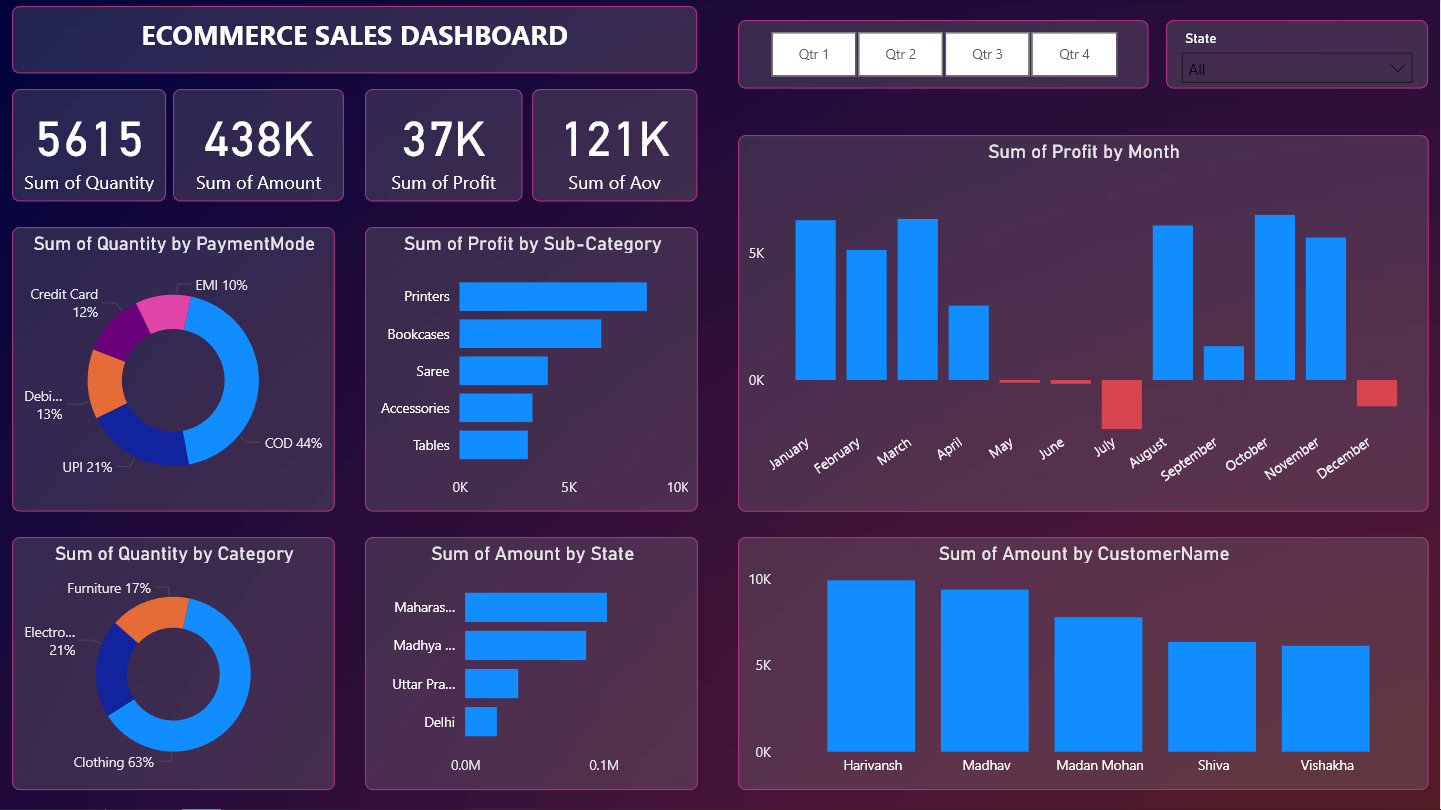

The dashboard page shown, as its layout file describes it:
{"tool":"powerbi","page":{"name":"Page 1","canvas":[1280,720],"ordinal":0},"visuals":[{"type":"columnChart","fields":{"Category":["Orders.Order Date.Variation.Date Hierarchy.Month"],"Y":["Sum(Details.Profit)"]},"box":[655.7,120.9,613.6,335],"z":0},{"type":"barChart","fields":{"Y":["Sum(Details.Profit)"],"Category":["Details.Sub-Category"]},"box":[324.3,202.4,296.5,253.5],"z":1000},{"type":"donutChart","fields":{"Category":["Details.Category"],"Y":["Sum(Details.Quantity)"]},"box":[10.7,478.3,286.6,224.8],"z":2000},{"type":"donutChart","fields":{"Y":["Sum(Details.Quantity)"],"Category":["Details.PaymentMode"]},"box":[10.7,202.4,286.6,253.5],"z":3000},{"type":"card","fields":{"Values":["Sum(Details.Amount)"]},"box":[154.1,79.7,152.3,100.3],"z":4000},{"type":"card","fields":{"Values":["Sum(Details.Quantity)"]},"box":[10.7,79.7,137,100.3],"z":5000},{"type":"card","fields":{"Values":["Sum(Details.Profit)"]},"box":[324.3,79.7,139.7,100.3],"z":6000},{"type":"card","fields":{"Values":["Sum(Details.Aov)"]},"box":[472.9,79.7,146.9,100.3],"z":7000},{"type":"barChart","fields":{"Y":["Sum(Details.Amount)"],"Category":["Orders.State"]},"box":[324.3,478.3,296.5,224.8],"z":8000},{"type":"clusteredColumnChart","fields":{"Category":["Orders.CustomerName"],"Y":["Sum(Details.Amount)"]},"box":[655.7,478.3,613.6,224.8],"z":9000},{"type":"slicer","fields":{"Values":["Orders.Order Date.Variation.Date Hierarchy.Quarter"]},"box":[655.7,18.8,364.6,60.9],"z":10000},{"type":"slicer","fields":{"Values":["Orders.State"]},"box":[1036.4,18.8,232.9,60.9],"z":11000},{"type":"textbox","box":[10.7,6.3,609.1,60],"z":12000}]}

Visuals, with their boxes in screenshot pixels (x1, y1, x2, y2), scaled from the page's 1280x720 canvas onto the 1441x810 screenshot:
columnChart - Orders.Order Date.Variation.Date Hierarchy.Month x Sum(Details.Profit): [left=738, top=136, right=1429, bottom=513]
barChart - Sum(Details.Profit) x Details.Sub-Category: [left=365, top=228, right=699, bottom=513]
donutChart - Details.Category x Sum(Details.Quantity): [left=12, top=538, right=335, bottom=791]
donutChart - Sum(Details.Quantity) x Details.PaymentMode: [left=12, top=228, right=335, bottom=513]
card - Sum(Details.Amount): [left=173, top=90, right=345, bottom=202]
card - Sum(Details.Quantity): [left=12, top=90, right=166, bottom=202]
card - Sum(Details.Profit): [left=365, top=90, right=522, bottom=202]
card - Sum(Details.Aov): [left=532, top=90, right=698, bottom=202]
barChart - Sum(Details.Amount) x Orders.State: [left=365, top=538, right=699, bottom=791]
clusteredColumnChart - Orders.CustomerName x Sum(Details.Amount): [left=738, top=538, right=1429, bottom=791]
slicer - Orders.Order Date.Variation.Date Hierarchy.Quarter: [left=738, top=21, right=1149, bottom=90]
slicer - Orders.State: [left=1167, top=21, right=1429, bottom=90]
textbox: [left=12, top=7, right=698, bottom=75]
